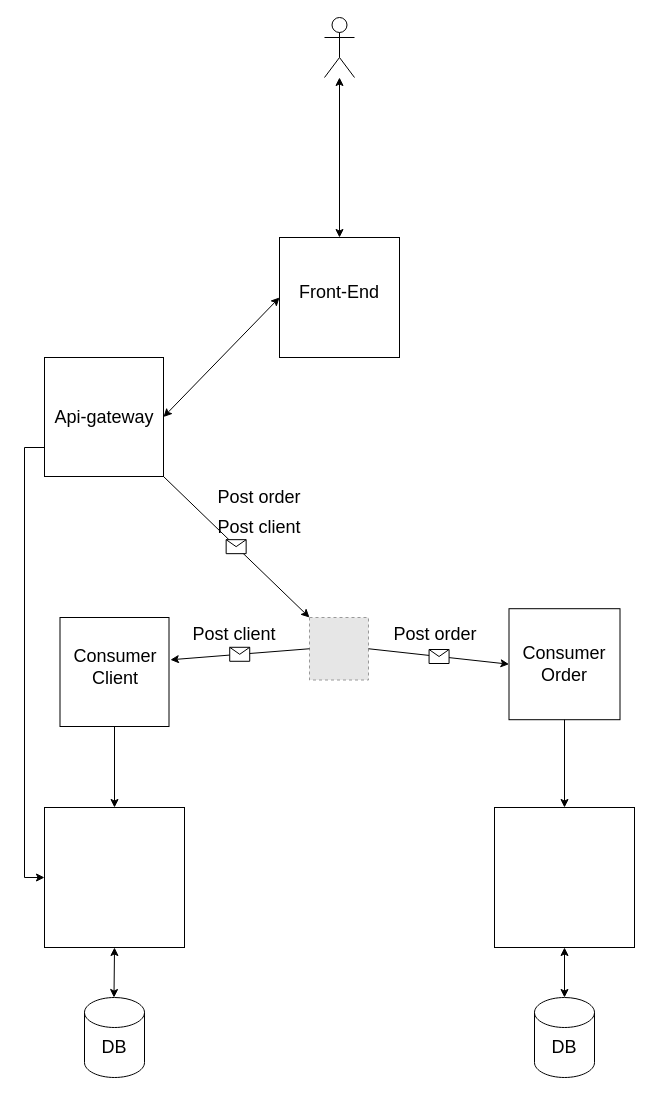
Image size: 652x1095. Some labels were removed from this diagram. Grey dashed boxes stand in for pictures. Here are the shapes that lost their labels. From the top down, the centre of each, then its label:
At pixel 339 47: "User".
At pixel 114 877: "Client micro-service".
At pixel 564 877: "Order micro-service".
